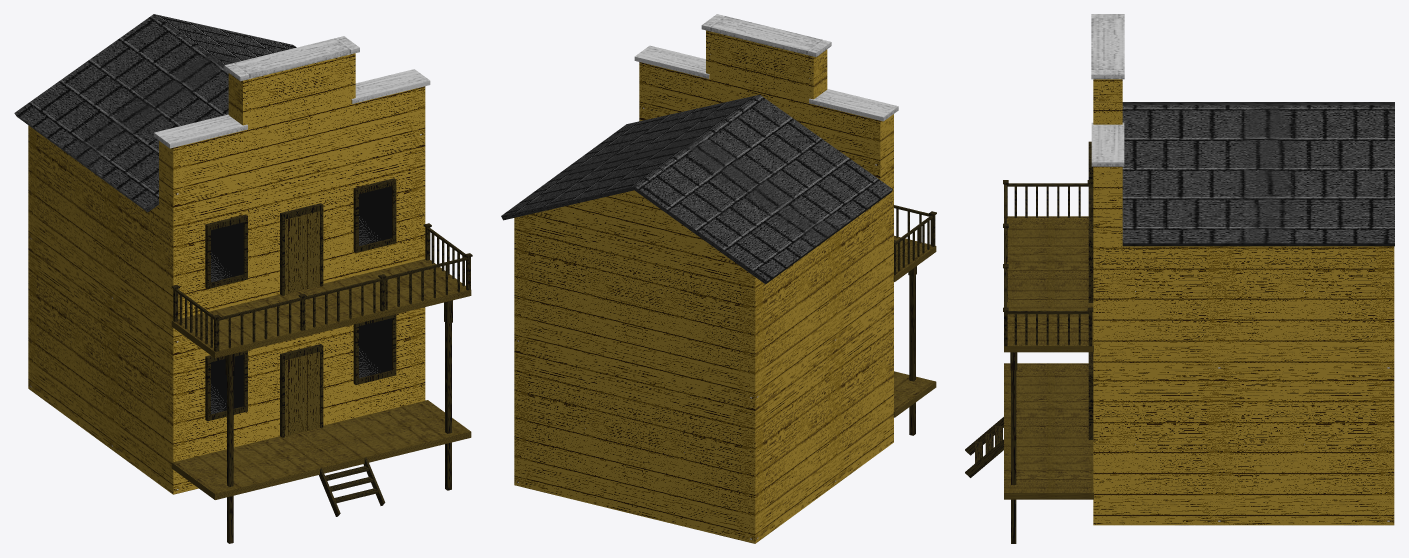
The model's file is Wild West Building 2.fbx.
3 renders of one model, left to right at view 1: azimuth 30°, elevation 25°; view 2: azimuth 150°, elevation 25°; view 3: azimuth 270°, elevation 25°, orthographic. The views are drawn at different scales.
Visible parts, largest first — view 1: Cube.006, Cube.009, Cube.001, Cube.011, Cube.010, Cube.012, Cube.005, Cube.002, Cube, Cube.004, Cube.008, Cube.003 (+1 smaller); view 2: Cube.006, Cube.009, Cube.010, Cube.001, Cube.002, Cube.007, Cube; view 3: Cube.006, Cube.009, Cube.001, Cube.010, Cube, Cube.005, Cube.007, Cube.003, Cube.002.
Part boxes in pixels (bbox=[...]): Cube.006: bbox=[28, 53, 425, 494]; Cube.009: bbox=[14, 14, 296, 212]; Cube.001: bbox=[171, 259, 471, 499]; Cube.011: bbox=[211, 186, 391, 414]; Cube.010: bbox=[154, 36, 430, 148]; Cube.012: bbox=[285, 211, 319, 436]; Cube.005: bbox=[205, 178, 396, 421]; Cube.002: bbox=[225, 300, 452, 543]; Cube: bbox=[171, 223, 472, 351]; Cube.004: bbox=[280, 203, 323, 437]; Cube.008: bbox=[228, 262, 459, 348]; Cube.003: bbox=[319, 457, 385, 516]; Cube.006: bbox=[514, 30, 893, 543]; Cube.009: bbox=[501, 94, 892, 284]; Cube.010: bbox=[634, 14, 898, 121]; Cube.001: bbox=[893, 235, 936, 417]; Cube.002: bbox=[908, 266, 916, 435]; Cube.007: bbox=[897, 221, 929, 271]; Cube: bbox=[894, 205, 936, 275]; Cube.006: bbox=[1093, 79, 1394, 525]; Cube.009: bbox=[1122, 102, 1394, 246]; Cube.001: bbox=[1004, 216, 1093, 499]; Cube.010: bbox=[1091, 14, 1124, 166]; Cube: bbox=[1003, 180, 1093, 346]; Cube.005: bbox=[1088, 141, 1093, 439]; Cube.007: bbox=[1014, 186, 1080, 345]; Cube.003: bbox=[965, 417, 1003, 477]; Cube.002: bbox=[1010, 352, 1017, 543].
Bounding box in the file's own units: 1742 × 2544 × 2240.
Materials: 7 (7 with a texture image).
